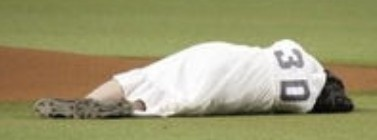falling: (12, 11, 369, 128)
